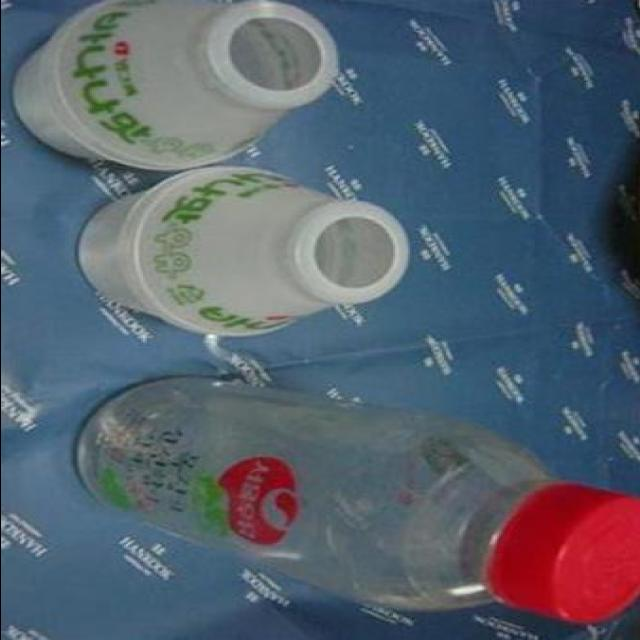-Recyclables - plastic bottle-: (71, 384, 640, 617), (78, 165, 404, 339), (13, 0, 335, 169)
